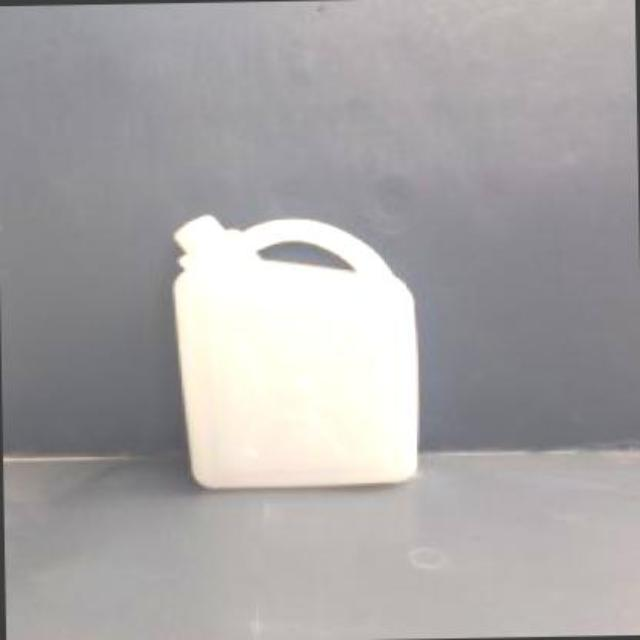chemical_plastic_gallon: (162, 205, 442, 501)
